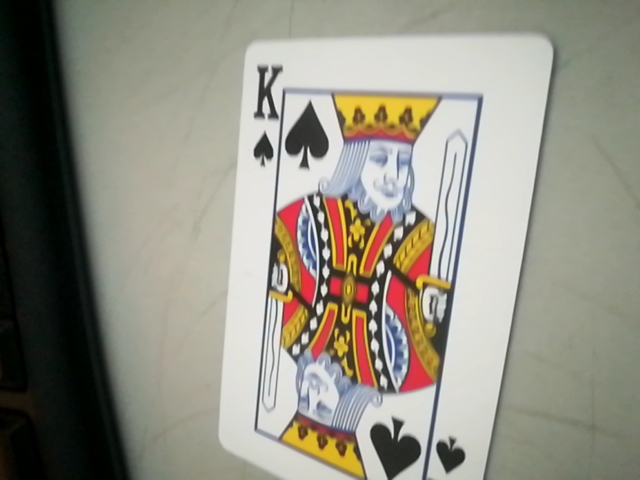ht k: (243, 55, 296, 175)
